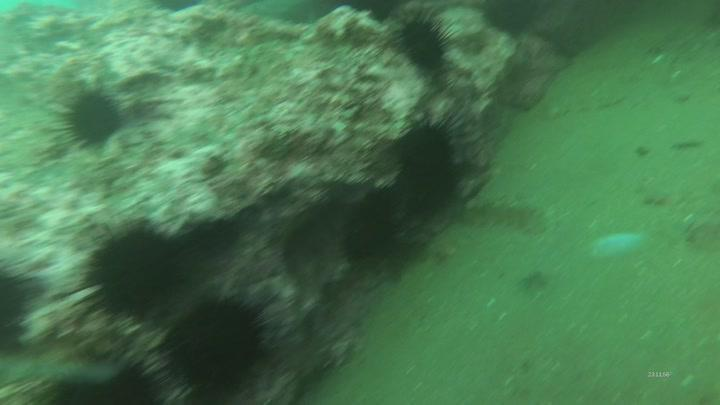urchin: (77, 224, 191, 309), (160, 307, 261, 395), (348, 205, 413, 273), (401, 125, 465, 190), (2, 268, 47, 343), (395, 20, 456, 72), (65, 92, 125, 140)
